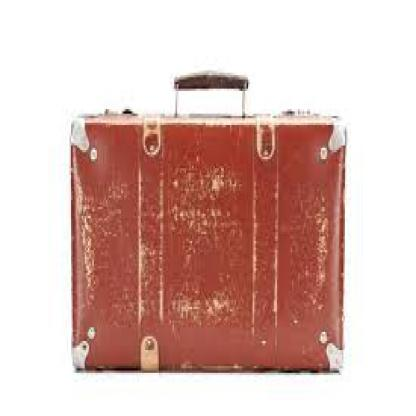maleta: (58, 100, 368, 382)
